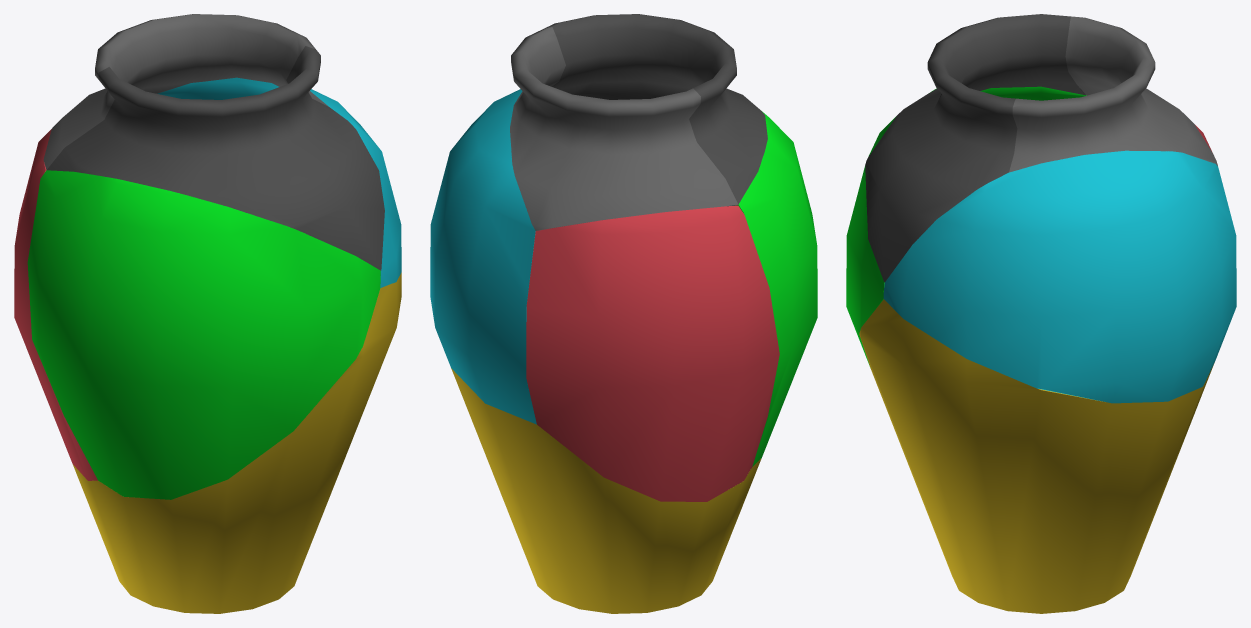
File: claypotLP1.fbx
The picture shows the model from 3 angles, left to right: view 1: azimuth 30°, elevation 25°; view 2: azimuth 150°, elevation 25°; view 3: azimuth 270°, elevation 25°; orthographic projection.
Visible parts, largest first — view 1: Cylinder.000_cell.011, Cylinder.000_cell.008, Cylinder.000_cell.007, Cylinder.000_cell.015, Cylinder.000_cell.006, Cylinder.000_cell.010; view 2: Cylinder.000_cell.006, Cylinder.000_cell.007, Cylinder.000_cell.015, Cylinder.000_cell.010, Cylinder.000_cell.008, Cylinder.000_cell.011; view 3: Cylinder.000_cell.010, Cylinder.000_cell.007, Cylinder.000_cell.008, Cylinder.000_cell.015, Cylinder.000_cell.011.
Boxes of the visible parts, box(x1,y1,x2,y2) form: Cylinder.000_cell.011: box(27, 170, 380, 499); Cylinder.000_cell.008: box(47, 46, 384, 270); Cylinder.000_cell.007: box(72, 272, 401, 613); Cylinder.000_cell.015: box(43, 14, 328, 169); Cylinder.000_cell.006: box(14, 129, 97, 480); Cylinder.000_cell.010: box(157, 77, 401, 287); Cylinder.000_cell.006: box(526, 205, 779, 501); Cylinder.000_cell.007: box(451, 368, 761, 613); Cylinder.000_cell.015: box(510, 27, 738, 230); Cylinder.000_cell.010: box(430, 89, 536, 424); Cylinder.000_cell.008: box(545, 14, 767, 204); Cylinder.000_cell.011: box(736, 111, 817, 466); Cylinder.000_cell.010: box(883, 150, 1236, 403); Cylinder.000_cell.007: box(859, 299, 1214, 613); Cylinder.000_cell.008: box(865, 14, 1085, 282); Cylinder.000_cell.015: box(1009, 16, 1217, 172); Cylinder.000_cell.011: box(846, 86, 1086, 366).
Size of the model in its own units: 1.04 by 1.52 by 1.04.
